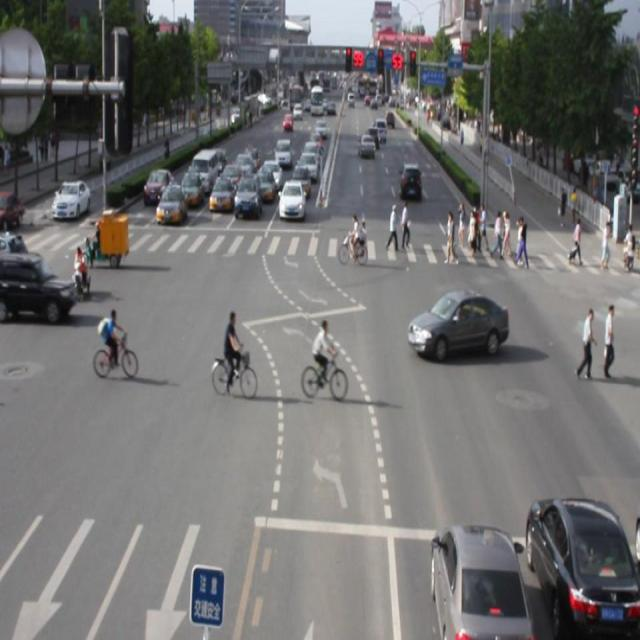car: (523, 495, 640, 640), (429, 524, 530, 640), (408, 287, 508, 355)
